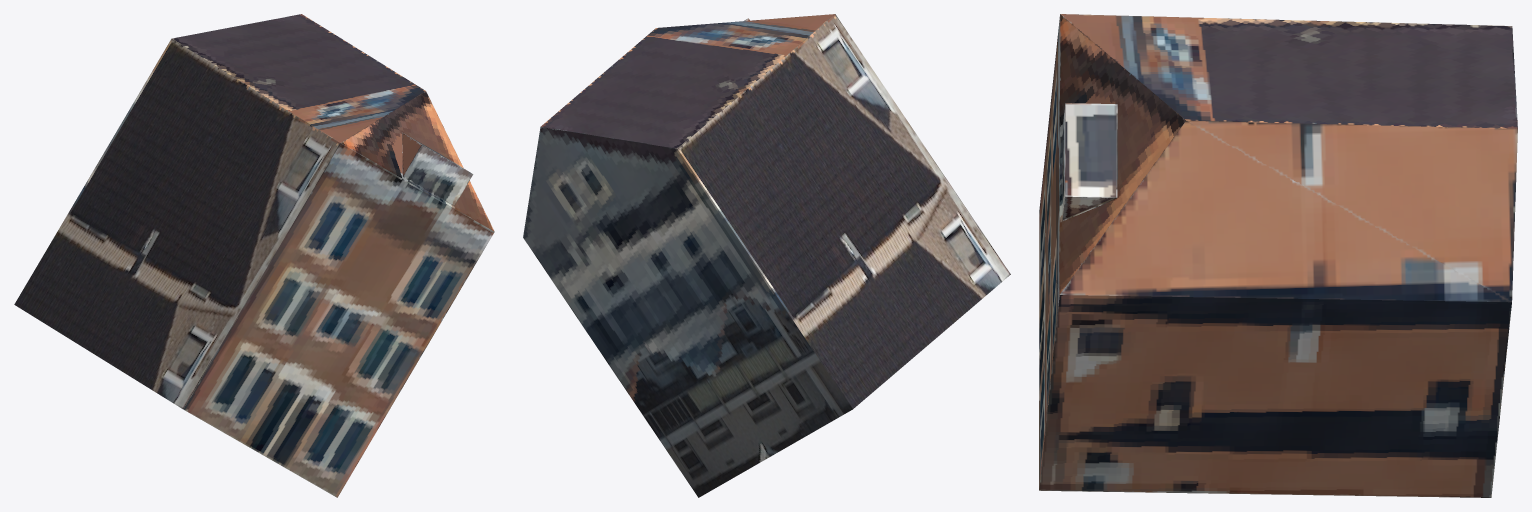
The picture shows the model from 3 angles, left to right: view 1: azimuth 30°, elevation 25°; view 2: azimuth 150°, elevation 25°; view 3: azimuth 270°, elevation 25°; orthographic projection. The views are drawn at different scales.
Visible parts, largest first — view 1: BAG_0599100000760398 (×2); view 2: BAG_0599100000760398; view 3: BAG_0599100000760398 (×3).
Boxes of the visible parts, x1,y1,x2,y2 form: BAG_0599100000760398 (×2): [14, 14, 494, 497]; BAG_0599100000760398: [523, 14, 1010, 497]; BAG_0599100000760398 (×3): [1039, 14, 1517, 497].
Size of the model in its own units: 13.58 by 14.2 by 12.38.
Materials: 1 (1 with a texture image).
